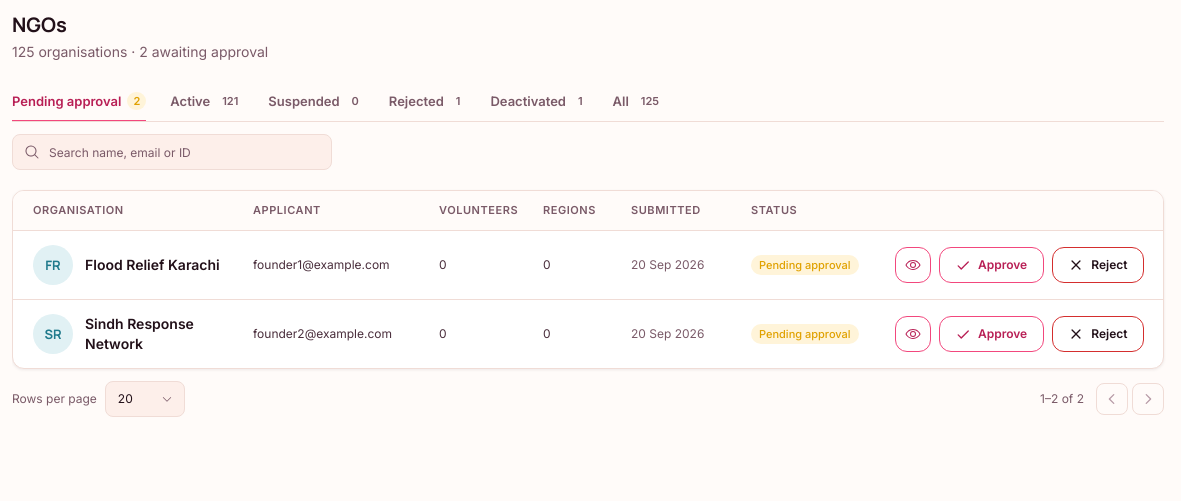
Scenario: NgosPage › tabs and search › switches tabs, and each shows only its status
The image size is (1181, 501).
expect the text "Flood Relief Karachi" is shown: met, box [85,255,220,275]
Click the tab "Rejected 1" at (428, 102), box [389,82,466,122]
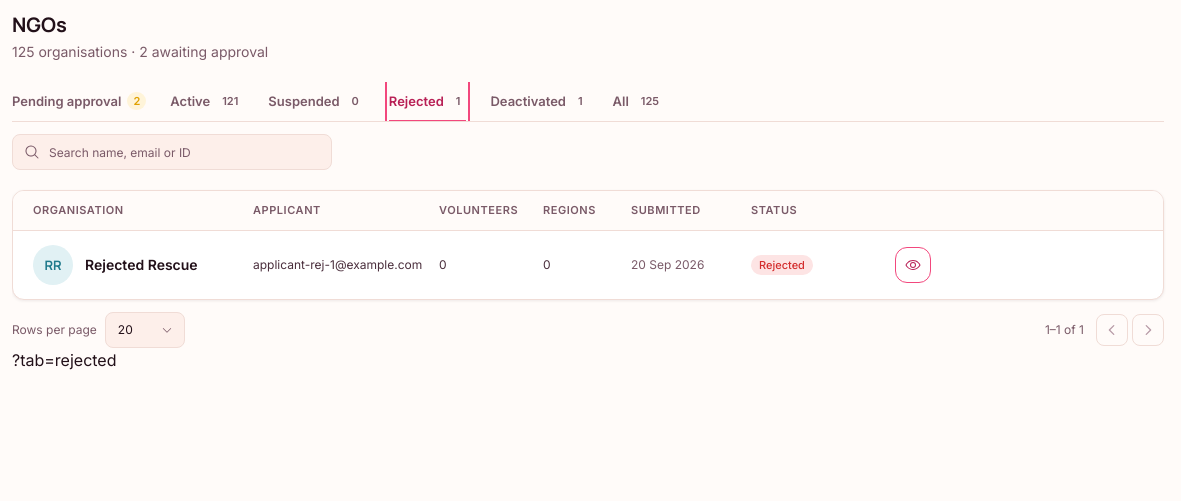
expect the number of list items is 1: met, box [33,245,931,285]
expect the text "Rejected Rescue" is shown: met, box [85,255,198,275]
Click the tab "Deactivated 1" at (540, 102), box [490,82,589,122]
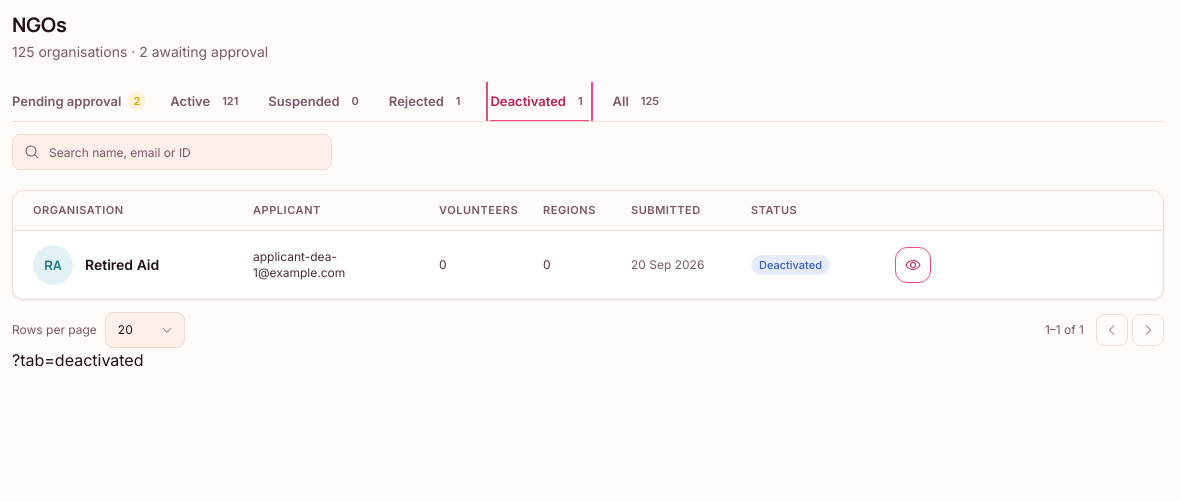
expect the text "Retired Aid" is shown: met, box [85,255,159,275]
Click the tab "Suspended 0" at (317, 102), box [268,82,365,122]
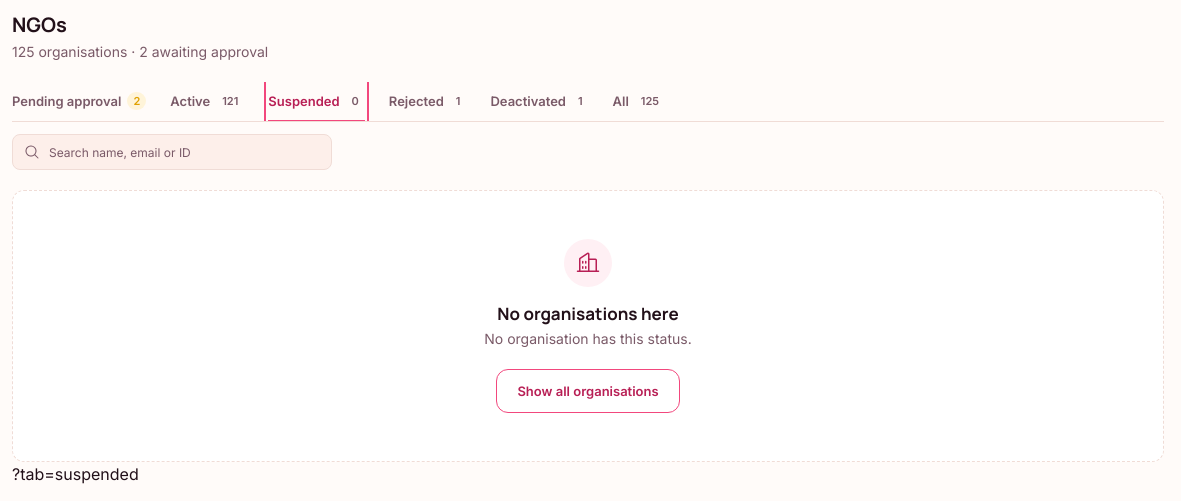
expect the heading "No organisations here" is shown: met, box [497,303,679,325]
